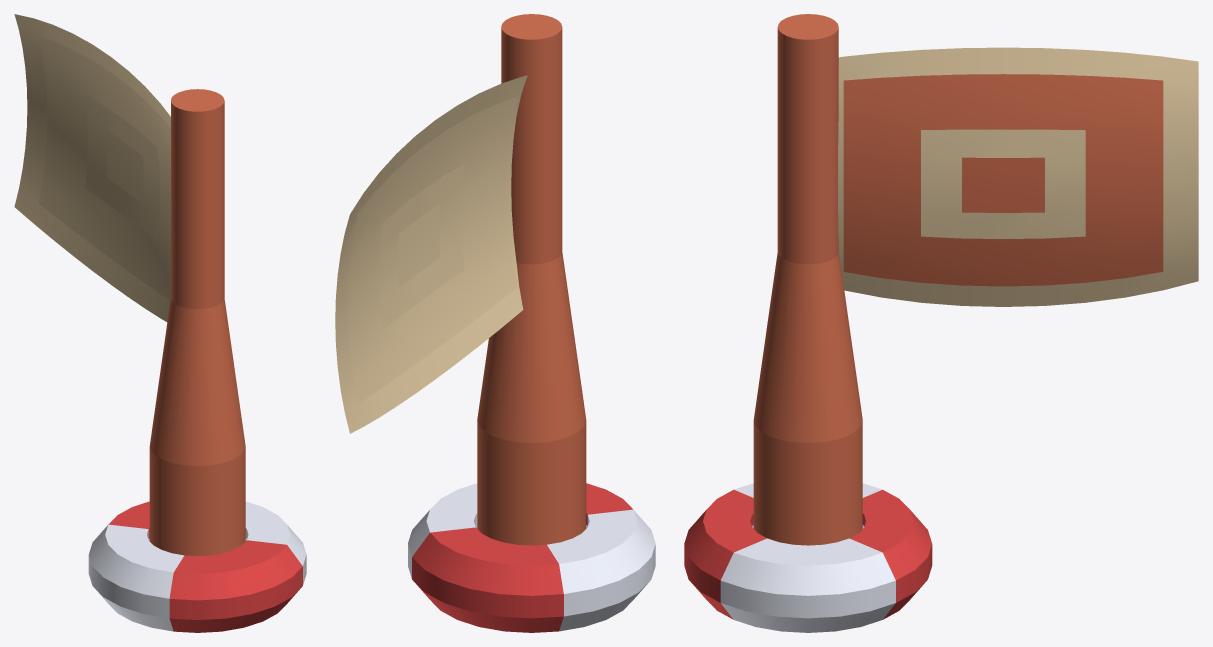
The model's file is FloatyFlag.glb.
3 views of the same model, side by side, from view 1: azimuth 30°, elevation 25°; view 2: azimuth 150°, elevation 25°; view 3: azimuth 270°, elevation 25° (orthographic). The views are drawn at different scales.
Parts seen in each view (by area): view 1: mergedBlocks(Clone); view 2: mergedBlocks(Clone); view 3: mergedBlocks(Clone).
Boxes of the visible parts, box(x1,y1,x2,y2) form: mergedBlocks(Clone): box(14, 14, 306, 632); mergedBlocks(Clone): box(335, 14, 655, 632); mergedBlocks(Clone): box(684, 14, 1198, 632).
Bounding box in the file's own units: 0.4 × 1 × 0.83.
1 material, 1 textured.
